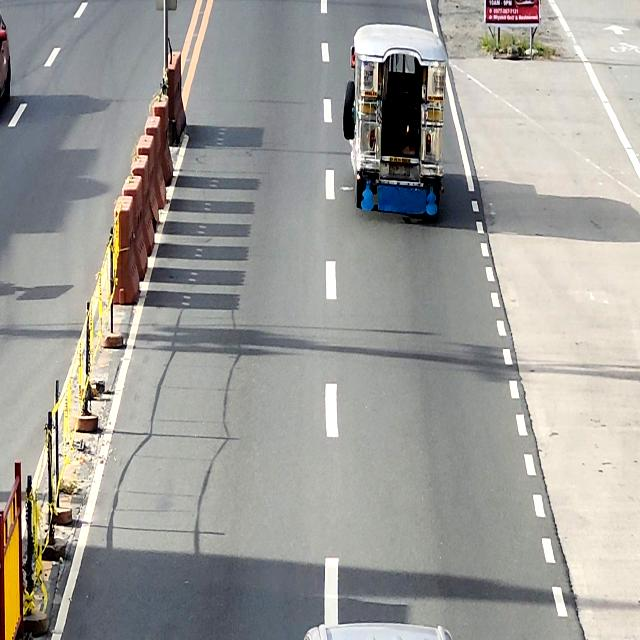Jeep: (343, 22, 447, 217)
License-Plate: (388, 162, 411, 178)
